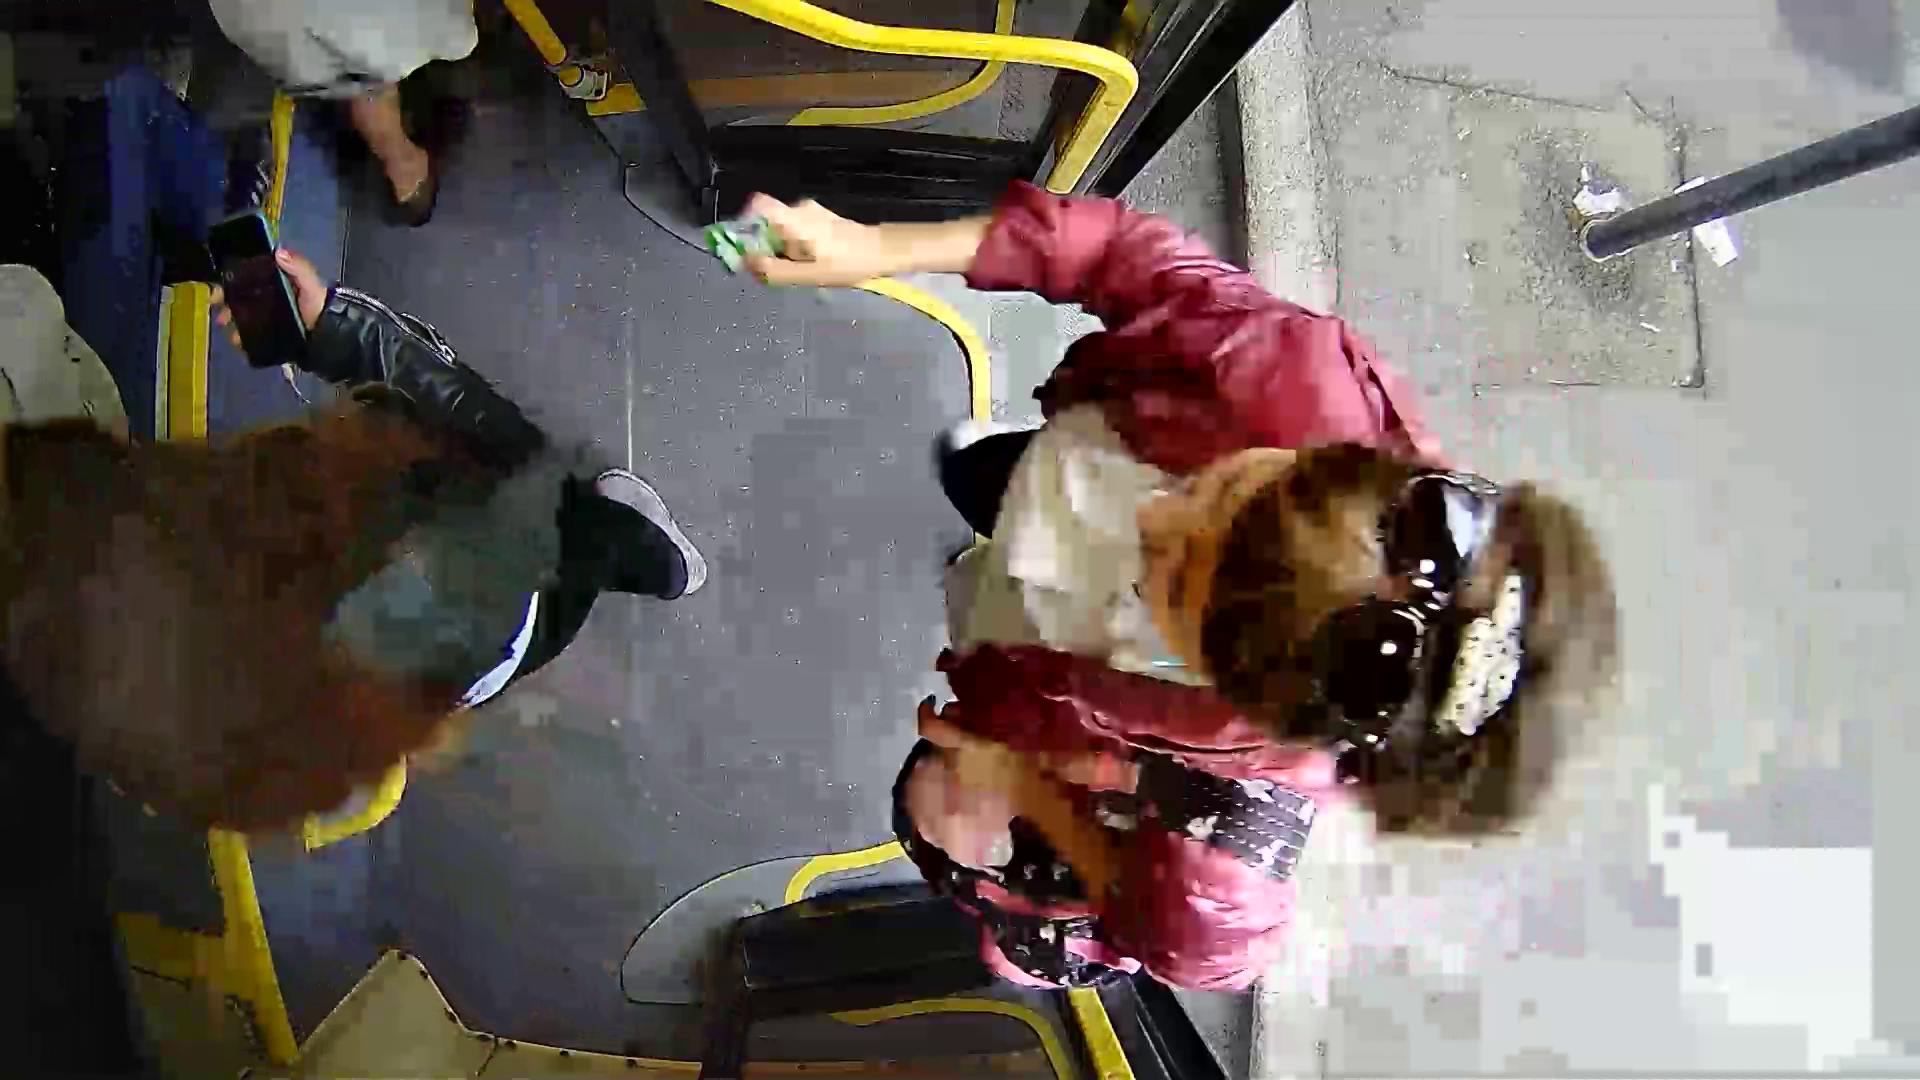person: (706, 110, 1647, 1015), (24, 227, 695, 820)
